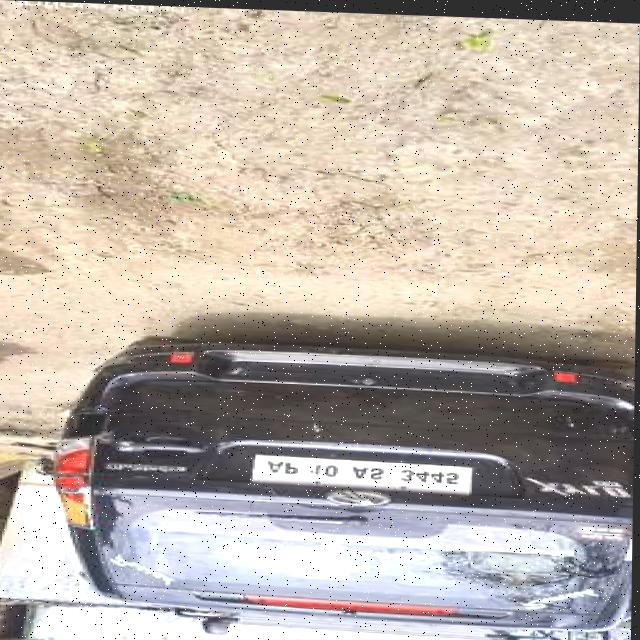plate: (253, 452, 479, 492)
